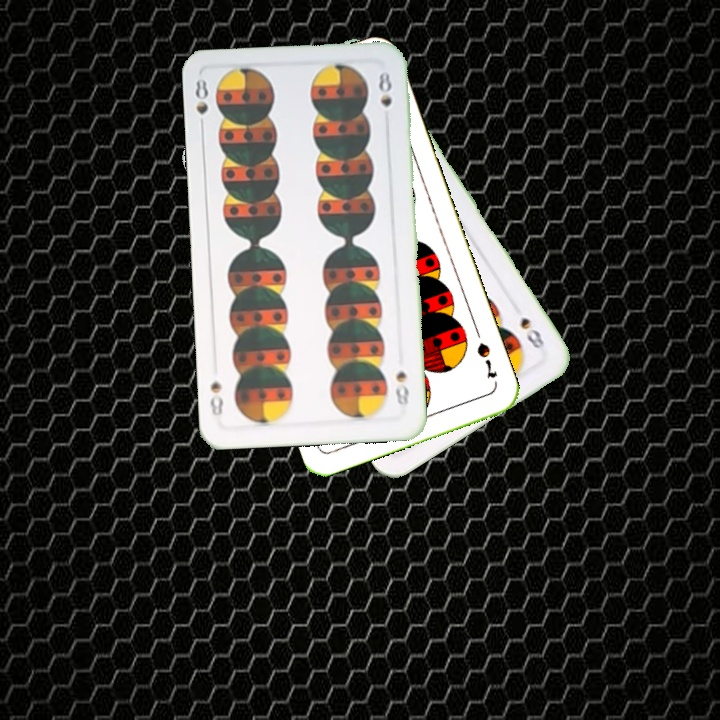S7: (473, 338, 500, 381)
S8: (516, 312, 547, 352), (191, 74, 211, 134), (391, 367, 411, 410)
